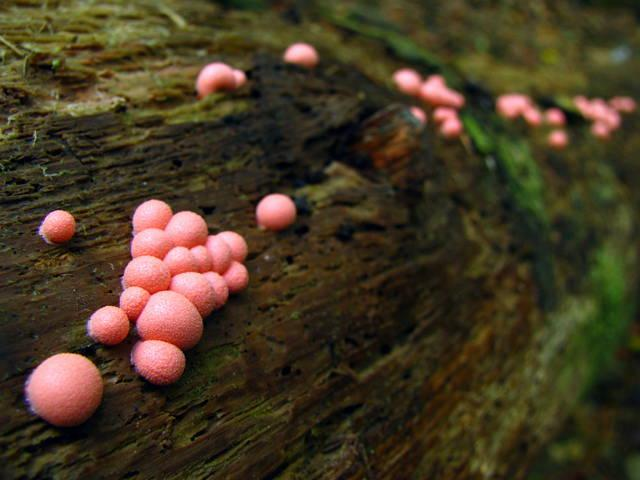Non-edible Mushroom: (85, 197, 250, 385), (378, 61, 640, 145), (23, 351, 104, 427), (134, 289, 203, 348), (129, 338, 186, 385), (194, 61, 246, 98), (85, 304, 130, 345), (254, 192, 297, 230), (37, 208, 76, 245), (282, 41, 319, 67)
